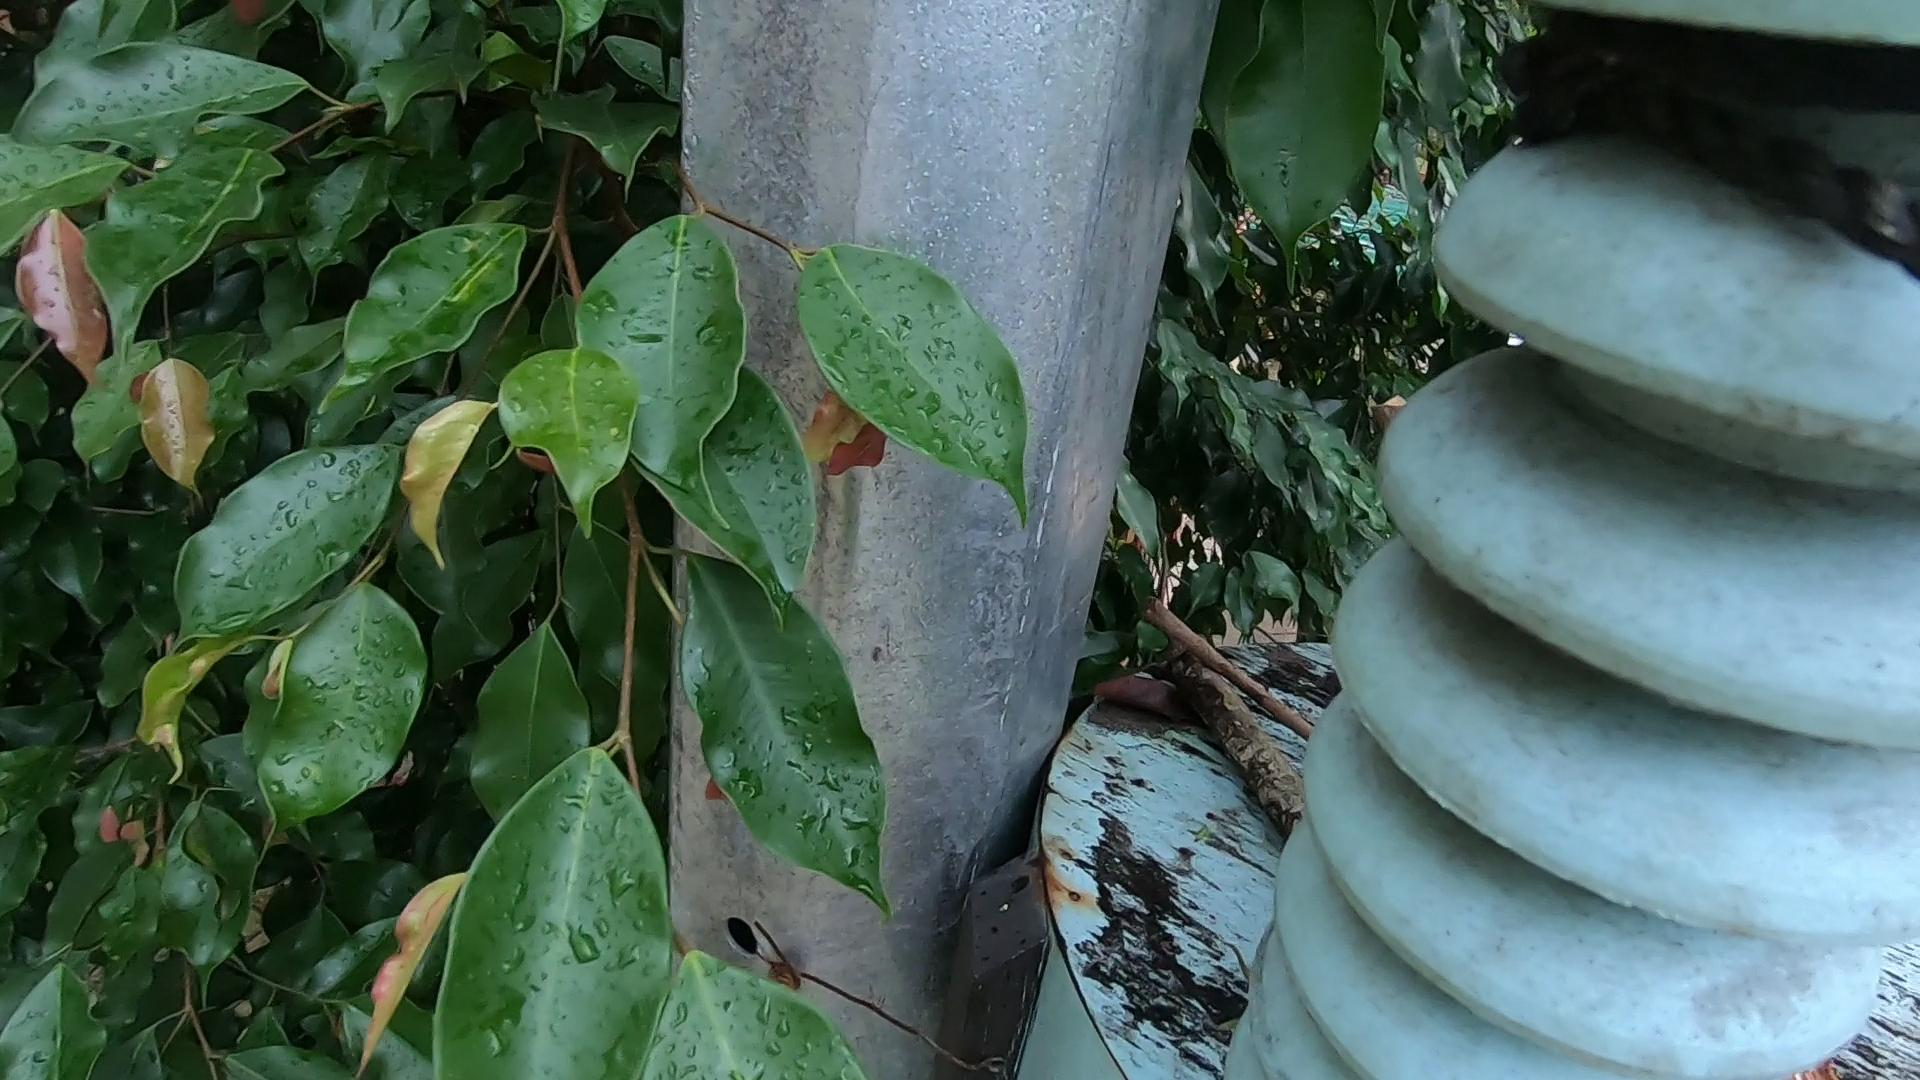branch with leaves: (1160, 667, 1341, 825)
tree branch: (1118, 584, 1304, 715)
